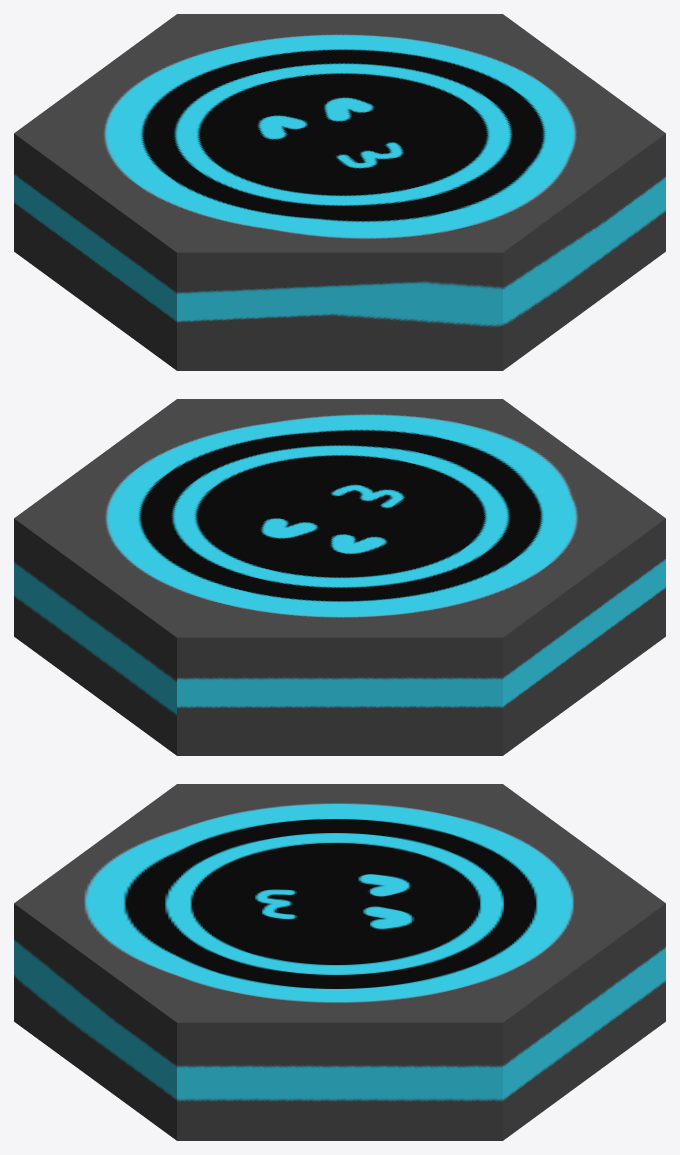
Rendered from Ally_Body.gltf.
3 views of the same model, one above another, from view 1: azimuth 30°, elevation 25°; view 2: azimuth 150°, elevation 25°; view 3: azimuth 270°, elevation 25° (orthographic).
Visible parts, largest first — view 1: 円柱; view 2: 円柱; view 3: 円柱.
Boxes of the visible parts, x1,y1,x2,y2 form: 円柱: [14, 14, 665, 370]; 円柱: [14, 399, 665, 755]; 円柱: [14, 784, 665, 1140].
Bounding box in the file's own units: 0.6852 × 0.2041 × 0.7912.
Materials: 1 (1 with a texture image).
